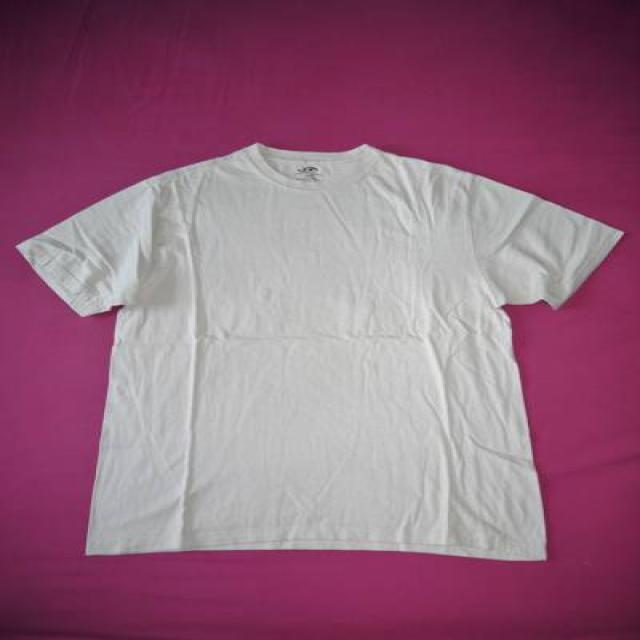shirt: (15, 143, 625, 562)
